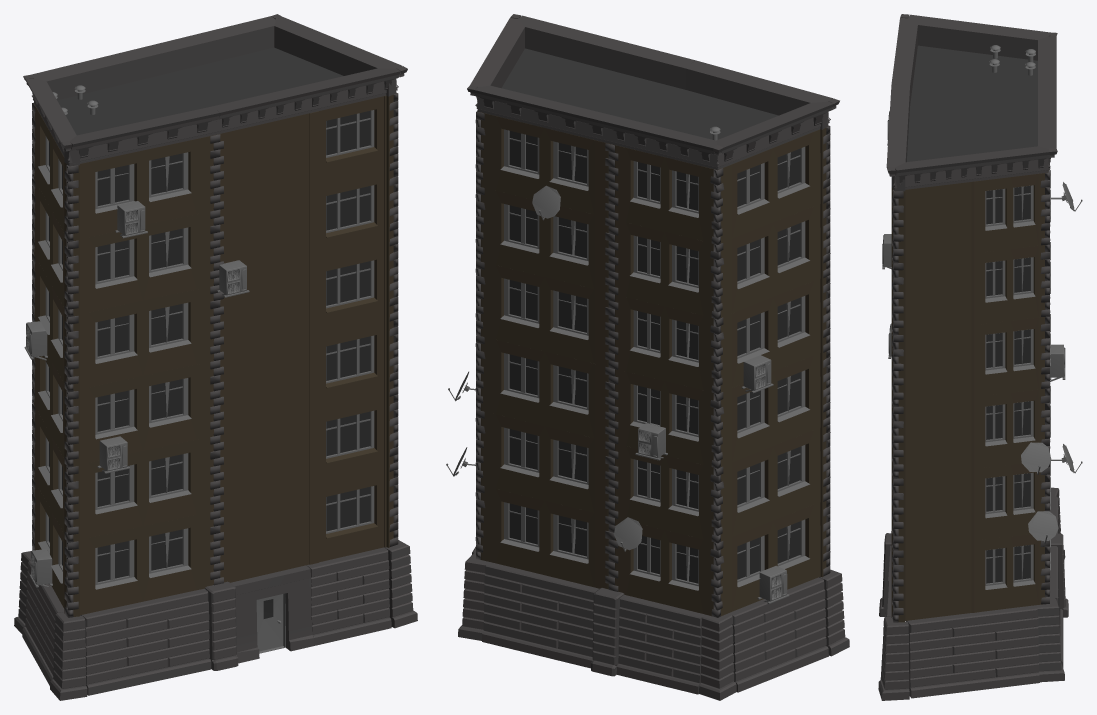
The picture shows the model from 3 angles, left to right: view 1: azimuth 30°, elevation 25°; view 2: azimuth 150°, elevation 25°; view 3: azimuth 270°, elevation 25°; orthographic projection. The views are drawn at different scales.
Parts seen in each view (by area): view 1: Plane.023, ground_floor_wall_02.172, middle_floor_wall_02.830, middle_floor_wall_02.827, middle_floor_wall_02.831, middle_floor_wall_02.828, middle_floor_wall_02.829, middle_floor_wall_02.832, ground_floor_wall_02.168, middle_floor_wall_01.440, middle_floor_wall_01.436, middle_floor_wall_01.437 (+46 smaller); view 2: Plane.023, middle_floor_wall_02.811, middle_floor_wall_02.810, middle_floor_wall_02.812, middle_floor_wall_02.809, middle_floor_wall_02.813, middle_floor_wall_02.814, ground_floor_wall_02.169, ground_floor_wall_02.171, middle_floor_wall_02.826, middle_floor_wall_02.825, middle_floor_wall_02.822 (+39 smaller); view 3: Plane.023, ground_floor_wall_02.173, middle_floor_wall_02.808, middle_floor_wall_02.806, middle_floor_wall_02.807, middle_floor_wall_02.803, middle_floor_wall_01.446, middle_floor_wall_01.444, middle_floor_wall_01.445, middle_floor_wall_01.441, middle_floor_wall_01.442, middle_floor_wall_01.443 (+36 smaller).
Boxes of the visible parts, x1,y1,x2,y2 form: Plane.023: [57, 47, 343, 163]; ground_floor_wall_02.172: [80, 588, 211, 695]; middle_floor_wall_02.830: [64, 287, 213, 389]; middle_floor_wall_02.827: [64, 512, 213, 615]; middle_floor_wall_02.831: [64, 211, 213, 314]; middle_floor_wall_02.828: [64, 437, 213, 539]; middle_floor_wall_02.829: [64, 362, 213, 464]; middle_floor_wall_02.832: [64, 134, 216, 239]; ground_floor_wall_02.168: [307, 547, 391, 645]; middle_floor_wall_01.440: [218, 114, 306, 207]; middle_floor_wall_01.436: [220, 415, 306, 508]; middle_floor_wall_01.437: [220, 339, 306, 433]; Plane.023: [502, 48, 778, 139]; middle_floor_wall_02.811: [480, 337, 608, 441]; middle_floor_wall_02.810: [480, 411, 608, 516]; middle_floor_wall_02.812: [480, 262, 608, 367]; middle_floor_wall_02.809: [480, 486, 608, 589]; middle_floor_wall_02.813: [480, 188, 608, 292]; middle_floor_wall_02.814: [478, 111, 611, 218]; ground_floor_wall_02.169: [482, 562, 599, 668]; ground_floor_wall_02.171: [728, 577, 828, 692]; middle_floor_wall_02.826: [718, 129, 820, 243]; middle_floor_wall_02.825: [721, 204, 820, 317]; middle_floor_wall_02.822: [721, 428, 820, 541]; Plane.023: [907, 45, 1037, 161]; ground_floor_wall_02.173: [906, 605, 1039, 698]; middle_floor_wall_02.808: [971, 172, 1047, 253]; middle_floor_wall_02.806: [971, 317, 1046, 397]; middle_floor_wall_02.807: [971, 245, 1046, 325]; middle_floor_wall_02.803: [971, 534, 1046, 612]; middle_floor_wall_01.446: [891, 182, 971, 261]; middle_floor_wall_01.444: [891, 325, 971, 405]; middle_floor_wall_01.445: [891, 253, 971, 333]; middle_floor_wall_01.441: [891, 541, 971, 620]; middle_floor_wall_01.442: [891, 469, 971, 548]; middle_floor_wall_01.443: [891, 397, 971, 477].
Bounding box in the file's own units: 1476 × 2221 × 780.
